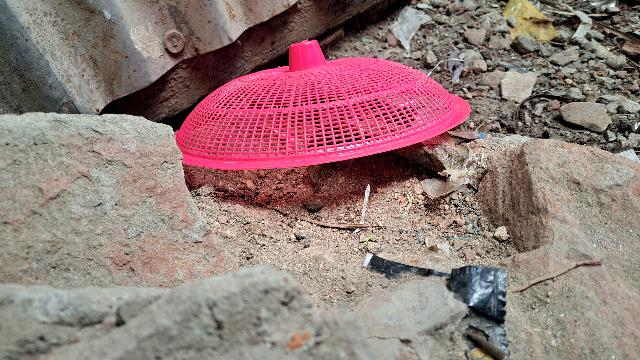hardplastic: (175, 38, 494, 175)
